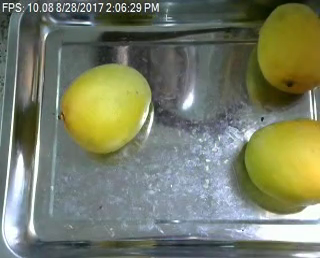Mango: (56, 62, 152, 153), (242, 119, 320, 207), (256, 2, 320, 93)
